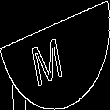M_N: (36, 25, 74, 85)
